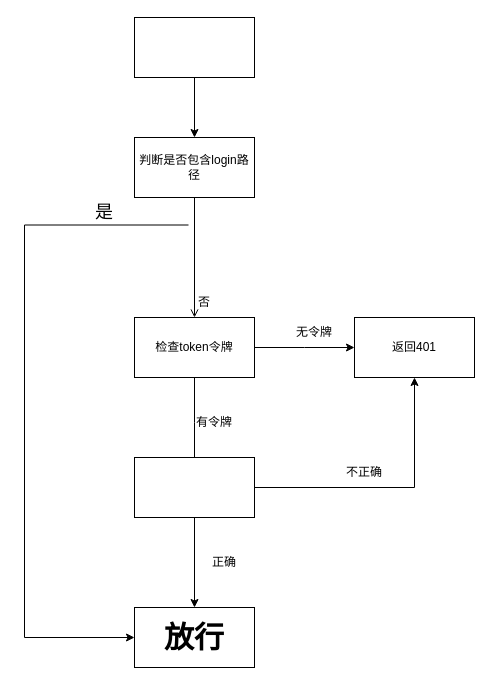
Some shapes in this 492 by 685 pixel diagram are drawn without their labels. Each missing label, with the box of its shape:
检验令牌的正确: (134, 456, 254, 518)
登录: (134, 16, 254, 78)
